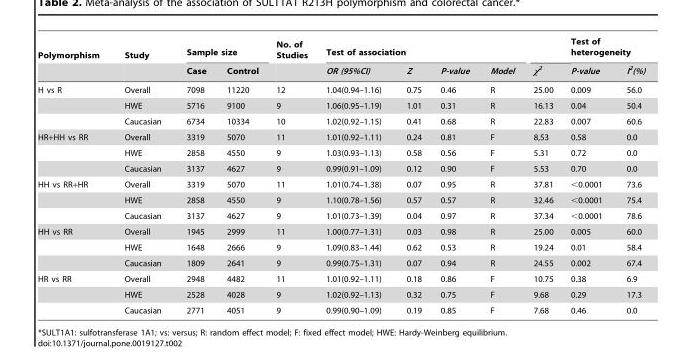table: (37, 36, 646, 314)
table column: (315, 36, 392, 314), (37, 36, 111, 314), (111, 36, 173, 314), (561, 36, 613, 314), (215, 36, 266, 314), (266, 36, 315, 314), (430, 36, 479, 314), (479, 36, 523, 314), (173, 36, 215, 314), (392, 36, 430, 314), (523, 36, 561, 314), (613, 36, 646, 314)
table column header: (37, 36, 646, 80)
table row: (37, 36, 646, 62), (37, 62, 646, 80), (37, 127, 646, 145), (37, 80, 646, 97), (37, 175, 646, 192), (37, 97, 646, 113), (37, 207, 646, 223), (37, 223, 646, 239), (37, 239, 646, 255), (37, 270, 646, 286), (37, 286, 646, 302), (37, 145, 646, 160), (37, 160, 646, 175), (37, 192, 646, 207), (37, 255, 646, 270), (37, 113, 646, 127), (37, 302, 646, 314)
table spanning cell: (315, 36, 523, 62), (37, 127, 111, 175), (37, 175, 111, 223), (37, 80, 111, 127), (37, 223, 111, 270), (37, 36, 111, 80), (37, 270, 111, 314), (111, 36, 173, 80), (173, 36, 266, 62), (561, 36, 646, 62), (266, 36, 315, 80), (523, 36, 561, 80)
